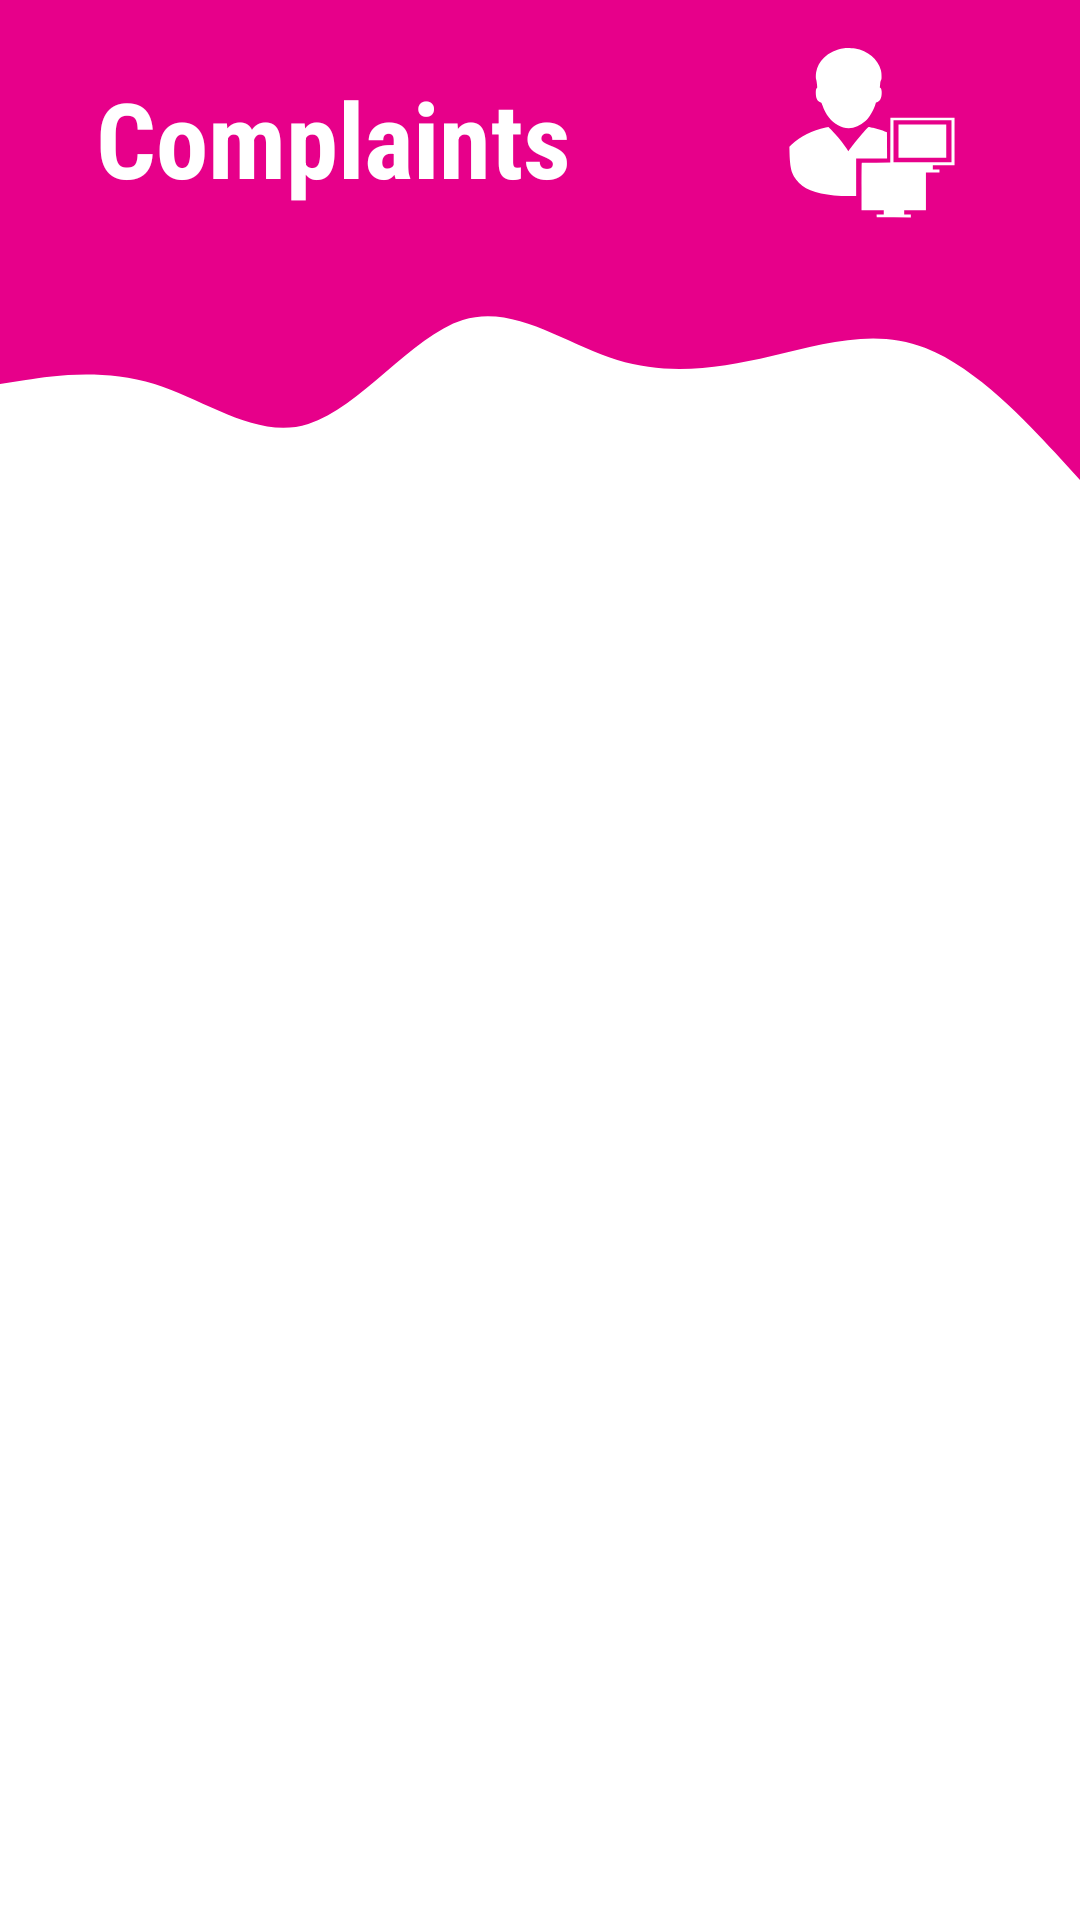

Named icons in this screenshot (1080x1920) and their centers, point (x, y):
vect admin login signup: point (872, 133)
